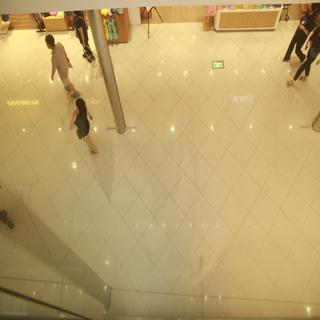person: (36, 31, 77, 90), (69, 94, 102, 161)
